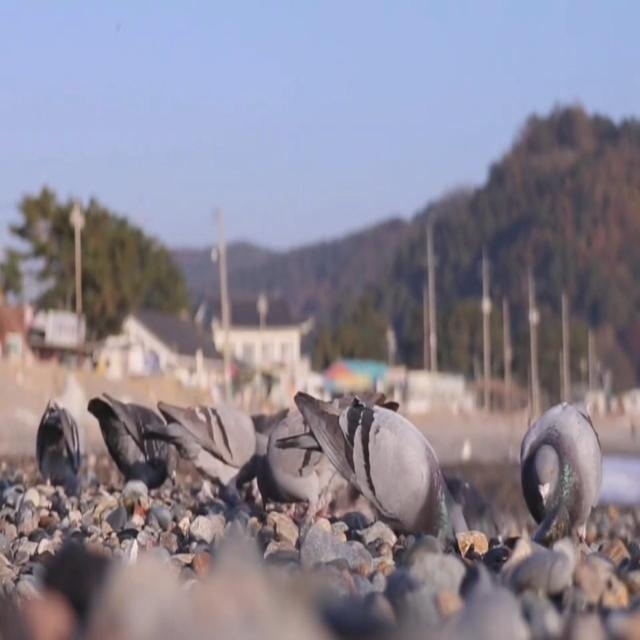bird: (269, 374, 474, 554), (512, 375, 610, 558), (134, 382, 271, 508), (82, 359, 184, 501), (264, 405, 352, 538), (28, 392, 88, 512)
